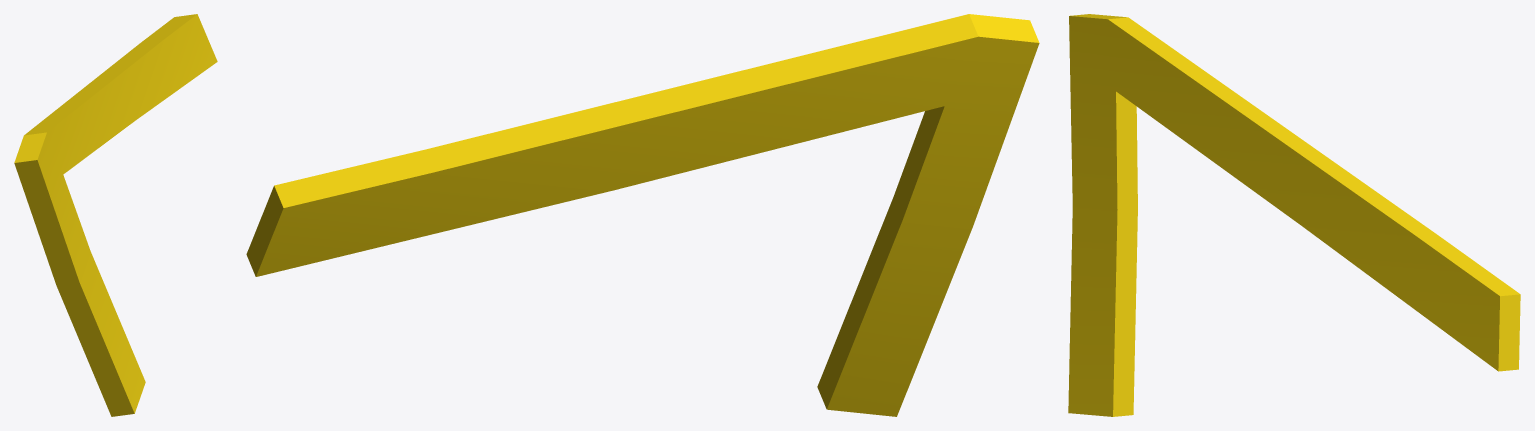
The model's file is Number_7.gltf.
3 views of the same model, side by side, from view 1: azimuth 30°, elevation 25°; view 2: azimuth 150°, elevation 25°; view 3: azimuth 270°, elevation 25° (orthographic). The views are drawn at different scales.
Visible parts, largest first — view 1: Sub_2_Cell_3_3_Number_7; view 2: Sub_2_Cell_3_3_Number_7; view 3: Sub_2_Cell_3_3_Number_7.
Part boxes in pixels (left/top/right/bottom): Sub_2_Cell_3_3_Number_7: left=14, top=14, right=217, bottom=416; Sub_2_Cell_3_3_Number_7: left=246, top=14, right=1039, bottom=416; Sub_2_Cell_3_3_Number_7: left=1068, top=14, right=1520, bottom=416.
Size of the model in its own units: 0.022 by 0.0166 by 0.019.
